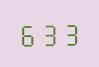six: (18, 20, 37, 47)
three: (59, 19, 78, 46), (39, 20, 58, 46)
